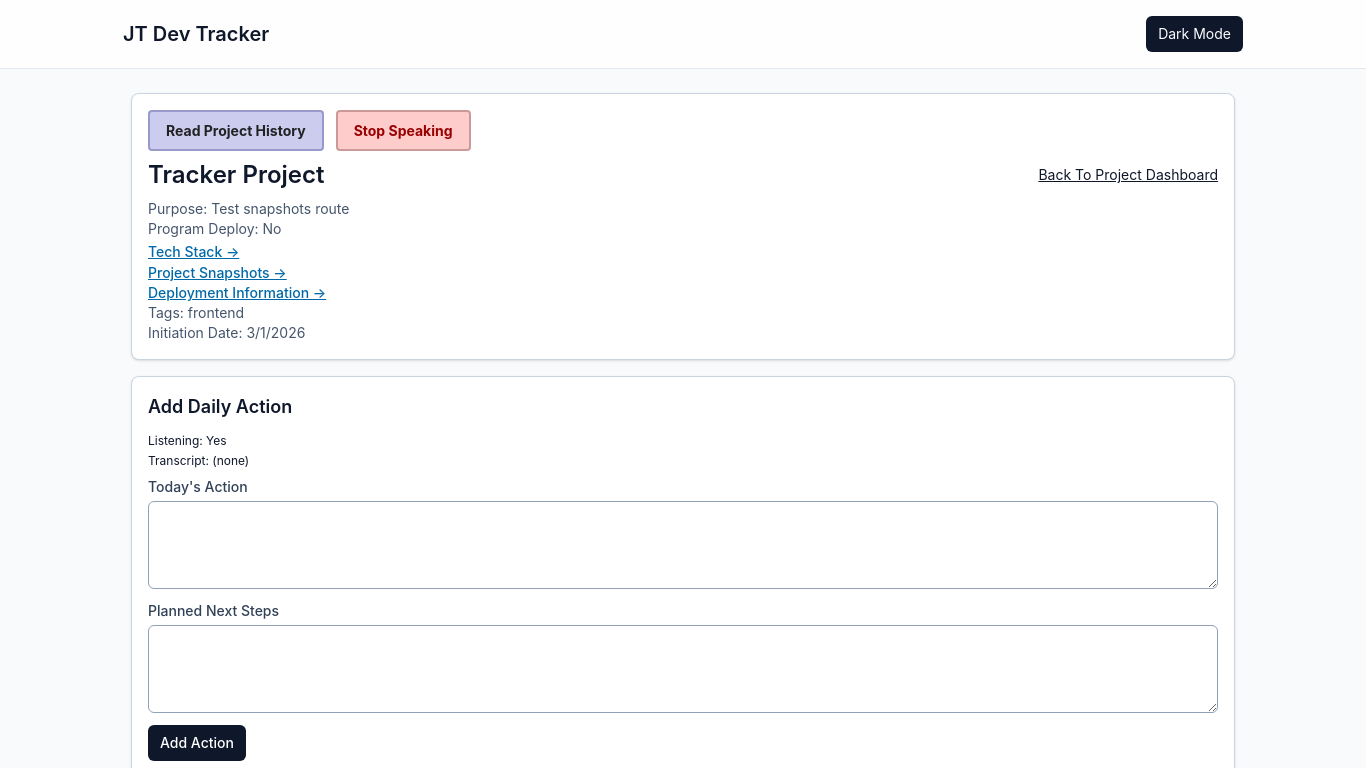
Test: ProjectSnapshots navigation › shows captured screen data after clicking Project Snapshots in details view
The width and height of the screenshot is (1366, 768).
Expected: the heading "Tracker Project" is shown, left=148, top=159, right=324, bottom=191
Click the link "Project Snapshots →": {"x": 217, "y": 272} left=148, top=264, right=287, bottom=281
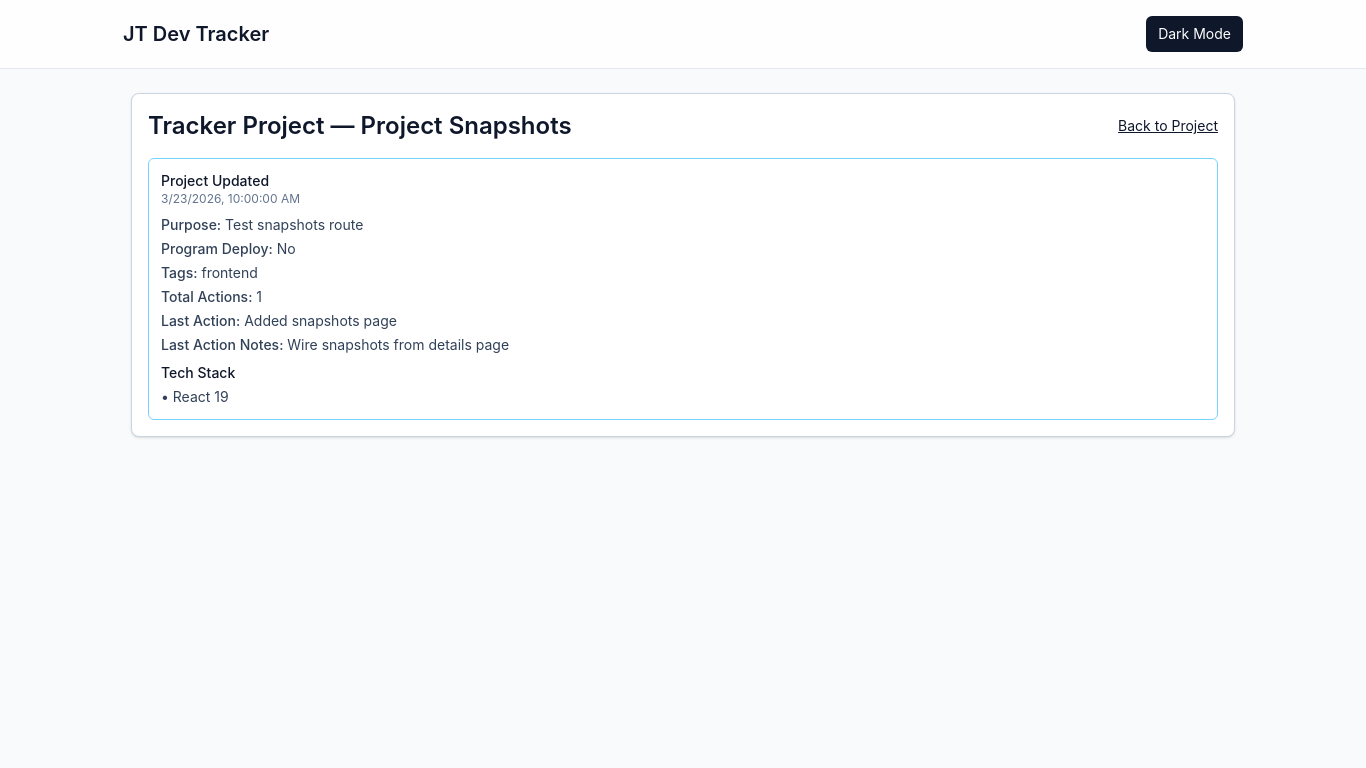
Expected: the heading "Tracker Project — Project Snapshots" is shown, left=148, top=110, right=572, bottom=142
Expected: the text "Total Actions:" is shown, left=161, top=288, right=252, bottom=305
Expected: the text "1" is shown, left=256, top=288, right=262, bottom=305
